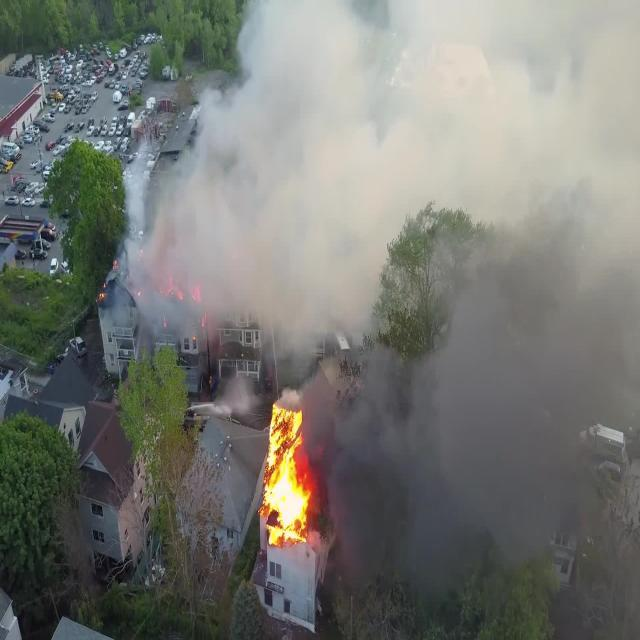Fire: (98, 254, 210, 325), (258, 402, 314, 542)
Smoke: (121, 7, 640, 316), (330, 296, 640, 580)
